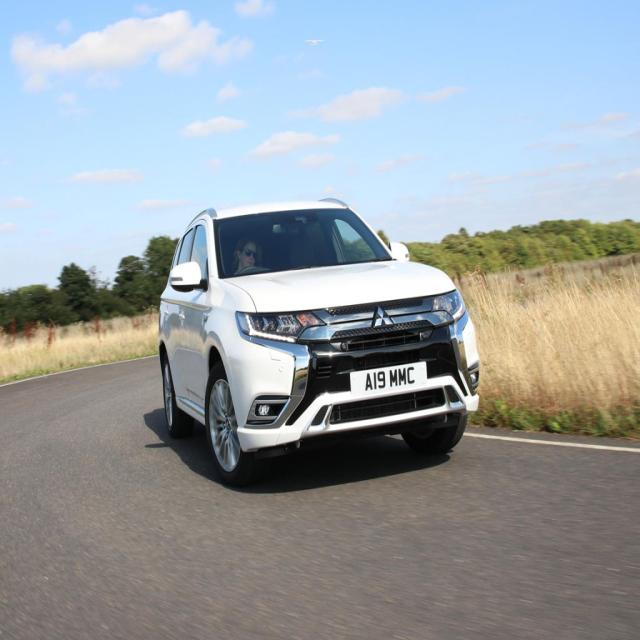light_vehicle: (157, 200, 482, 487)
